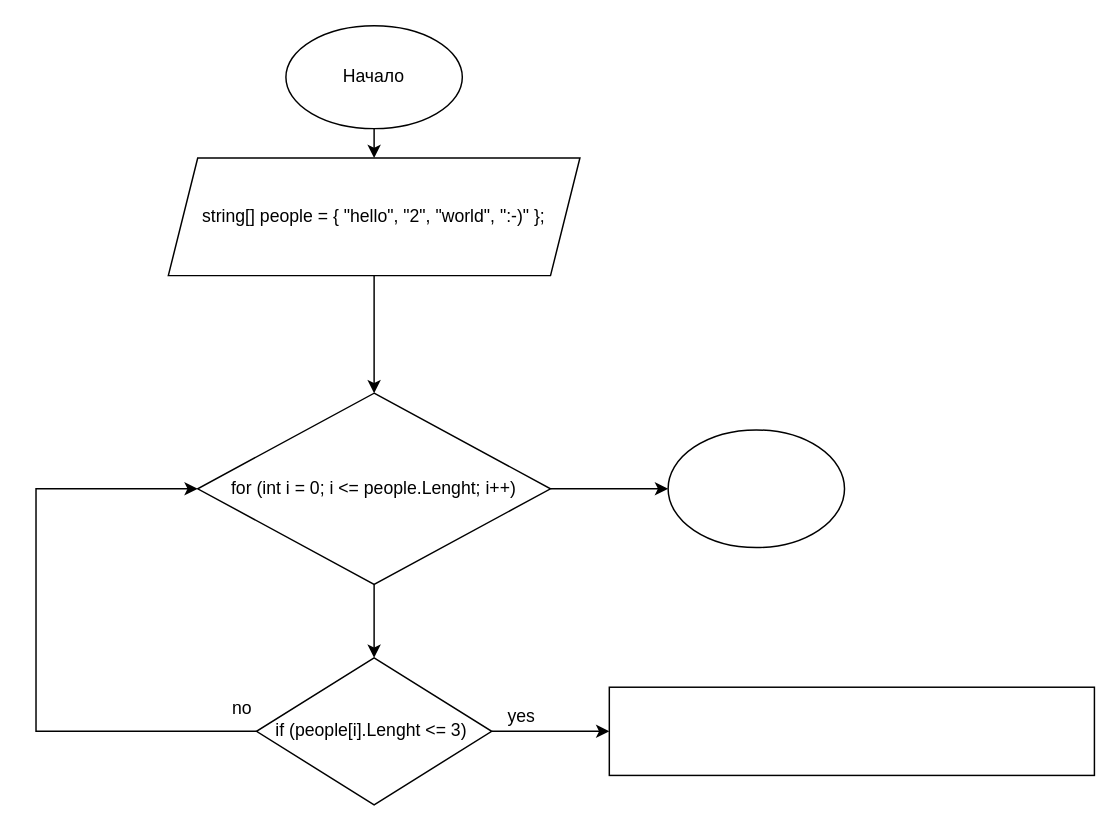
Image size: 1120x831. Some labels were removed from this diagram. Here are the shapes that lost their labels. From the top down, the centre of each, then its label:
(756,488): конец!
(851,730): Console.WriteLine( $"{people[i]}" );
